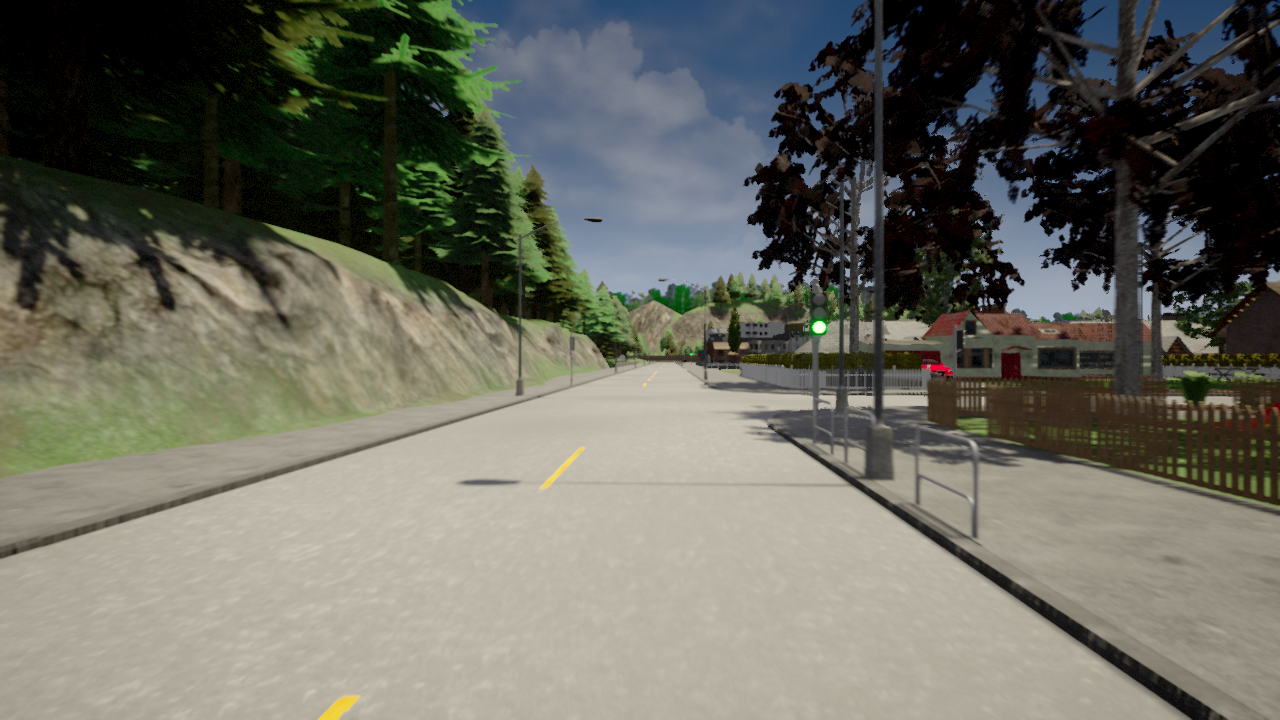green: (810, 291, 828, 335)
